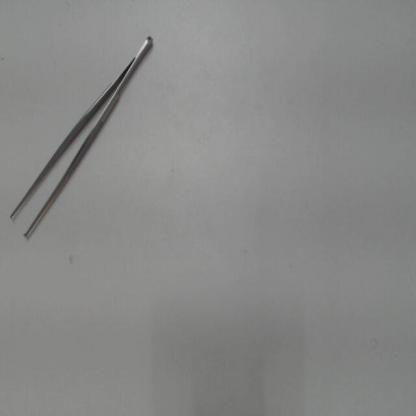Gillies Toothed Dissector: (2, 28, 160, 250)
